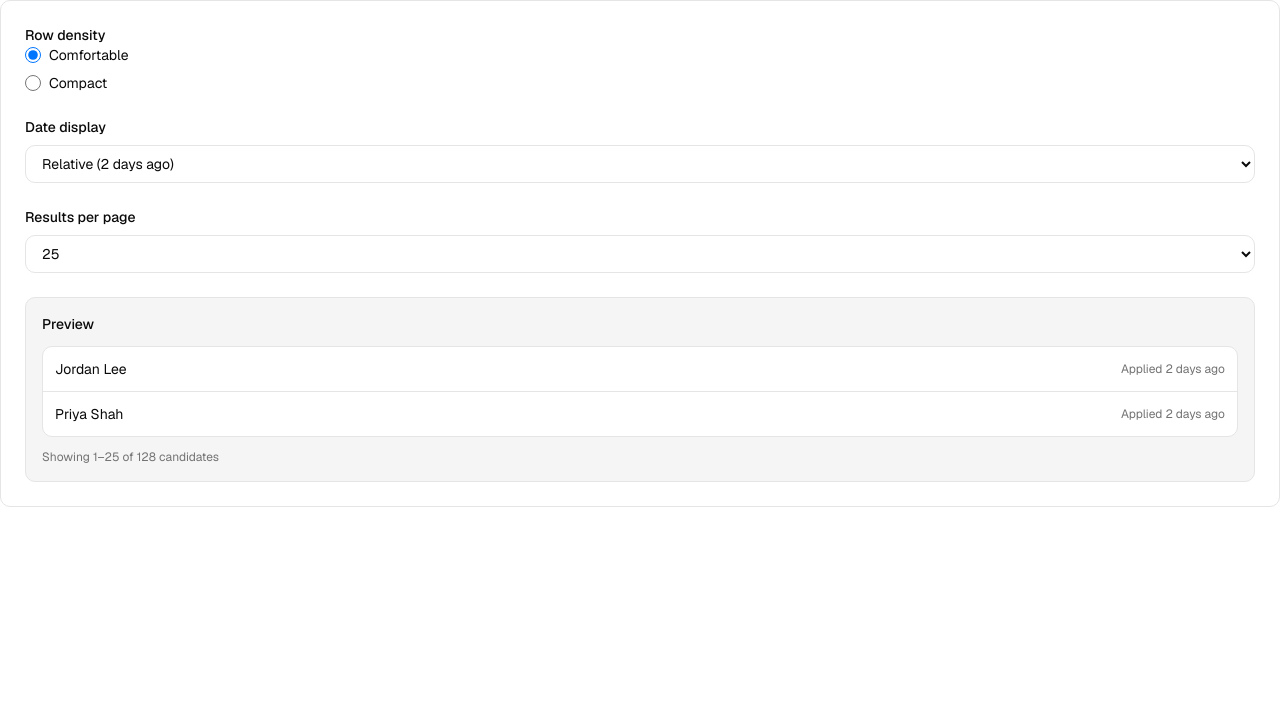
Test: SettingsForm › updates the preview's applied date and page size immediately
Expected: the text "Applied 2 days ago" in the row of "Jordan Lee" is shown, [1165,361,1225,377]
Expected: the text "Showing 1–25 of 128 candidates" is shown, [42,449,219,465]
Select "Exact (Aug 16, 2026, 2:30 PM)" in the dropdown labelled "Date display" at (640, 164), box [25,145,1255,183]
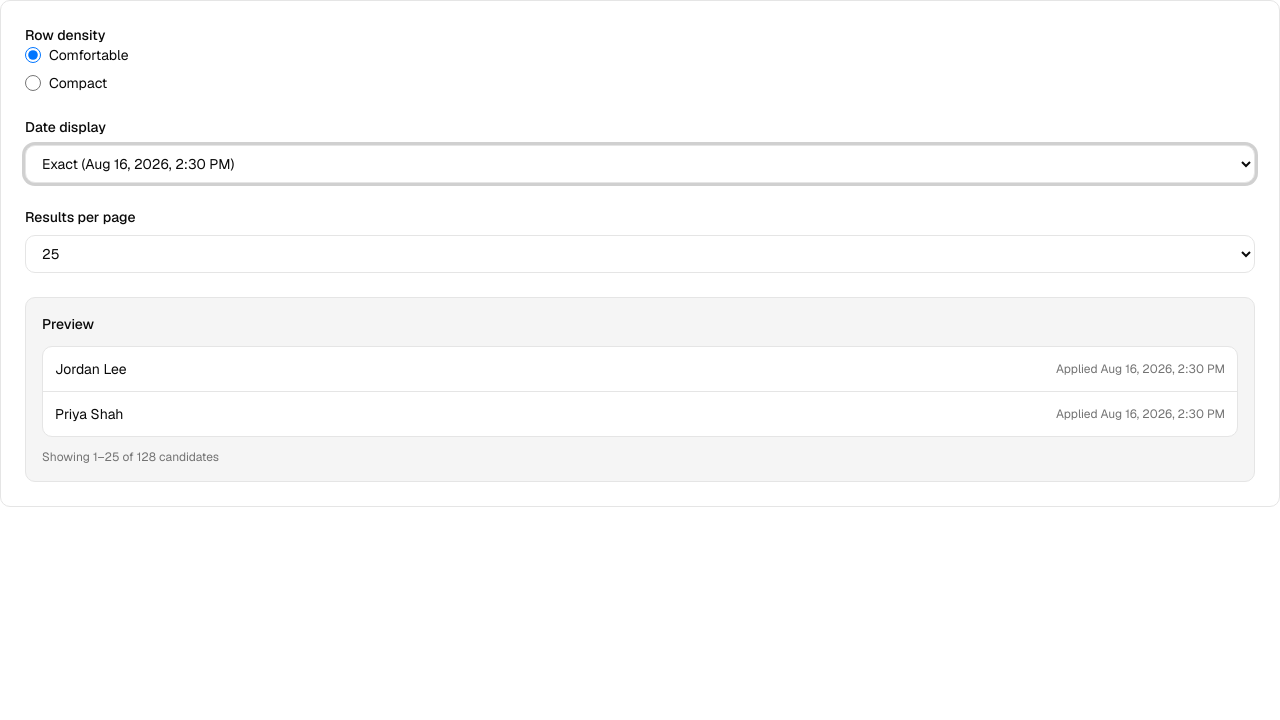
Select "50" in the dropdown labelled "Results per page" at (640, 254), box [25,235,1255,273]
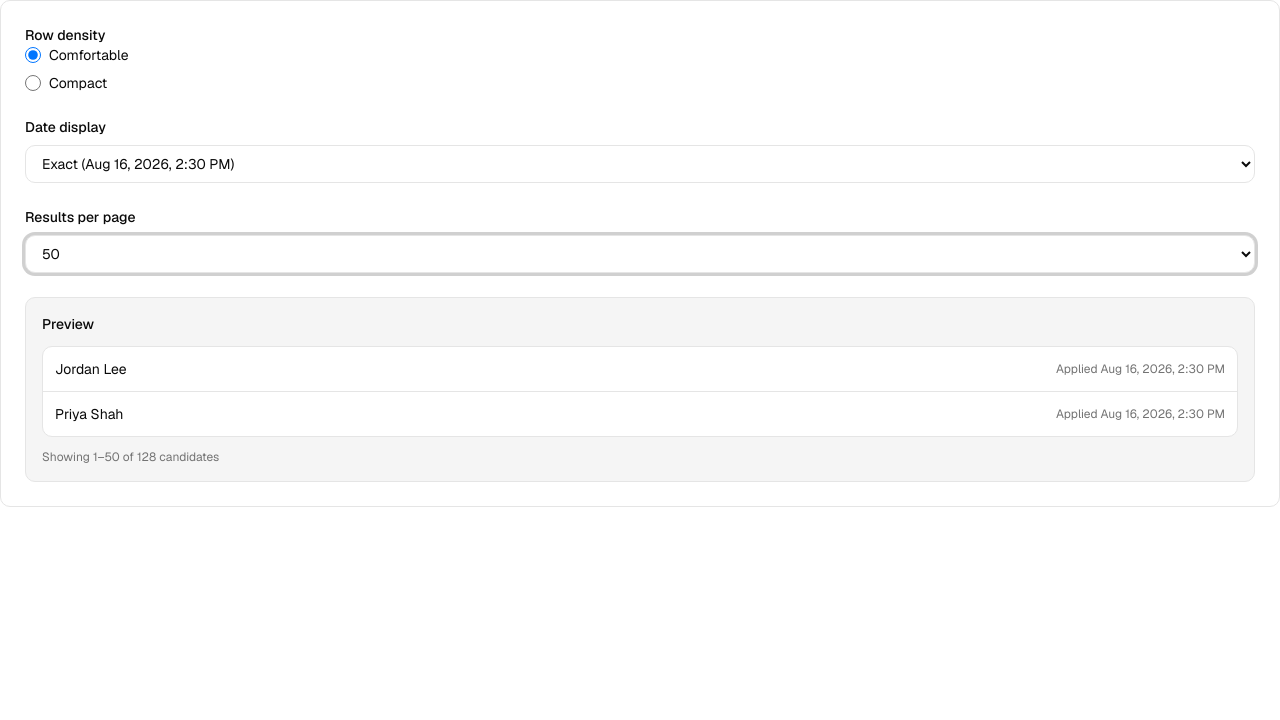
Expected: the text "Applied Aug 16, 2026, 2:30 PM" in the row of "Jordan Lee" is shown, [1101,361,1225,377]
Expected: the text "Showing 1–50 of 128 candidates" is shown, [42,449,219,465]
